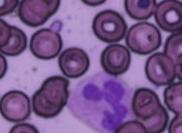N: (68, 72, 134, 133)
